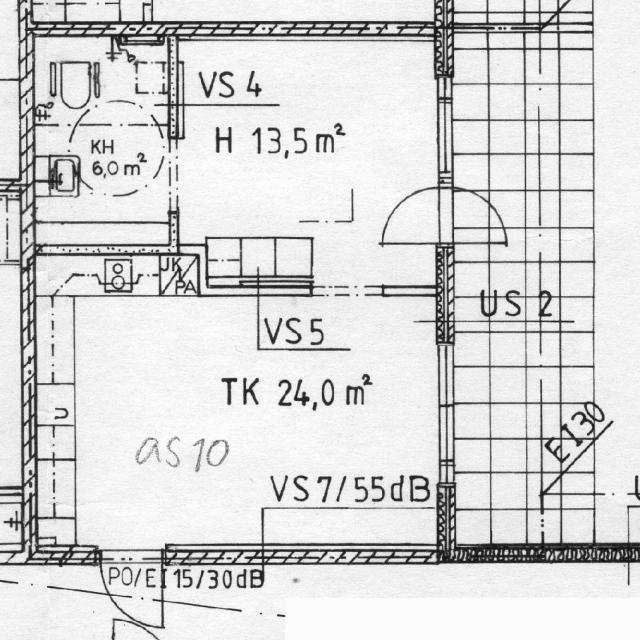door: (99, 544, 162, 629), (379, 187, 453, 244), (434, 187, 508, 244)
